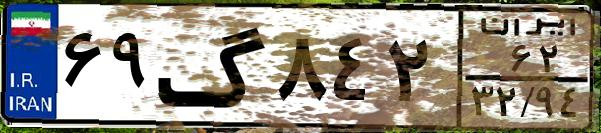2: (385, 28, 445, 110), (537, 27, 568, 80), (495, 70, 520, 125)
3: (470, 70, 495, 125)
4: (330, 28, 385, 110), (560, 70, 590, 125)
6: (57, 26, 110, 100), (508, 27, 537, 80)
8: (270, 28, 330, 110)
9: (110, 28, 156, 98), (535, 70, 560, 125)
گ: (156, 12, 270, 120)
